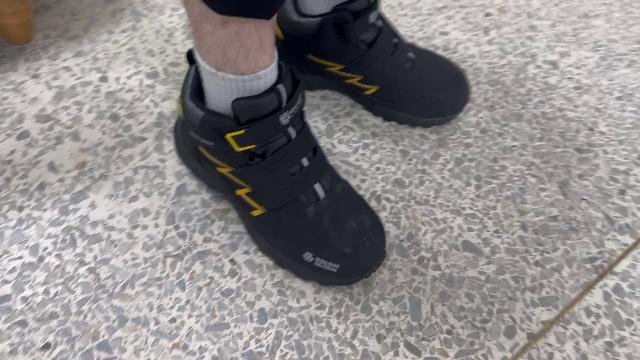shoe_worn: (161, 61, 392, 289), (275, 0, 477, 128)
